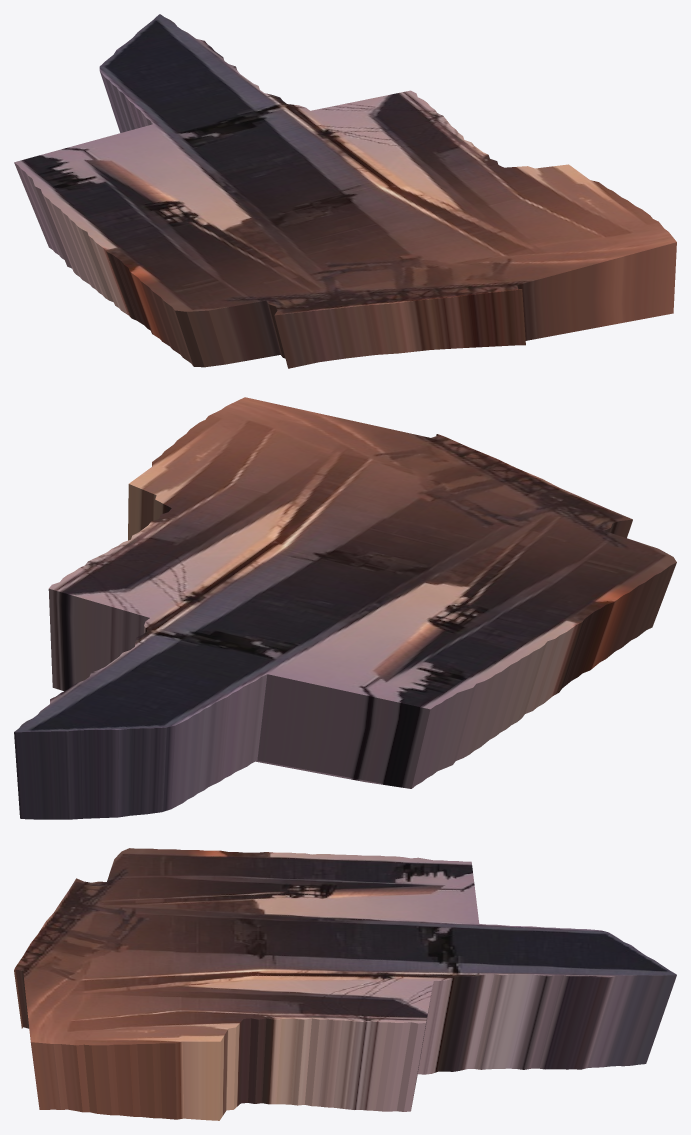
The model's file is tower.glb.
The picture shows the model from 3 angles, top to bottom: view 1: azimuth 30°, elevation 25°; view 2: azimuth 150°, elevation 25°; view 3: azimuth 270°, elevation 25°; orthographic projection. The views are drawn at different scales.
Visible parts, largest first — view 1: tower-hero; view 2: tower-hero; view 3: tower-hero.
Part boxes in pixels (x1,y1,x2,y2): tower-hero: [14, 14, 676, 368]; tower-hero: [14, 397, 676, 819]; tower-hero: [14, 848, 676, 1120].
Bounding box in the file's own units: 180 × 38.33 × 254.
1 material, 1 textured.
